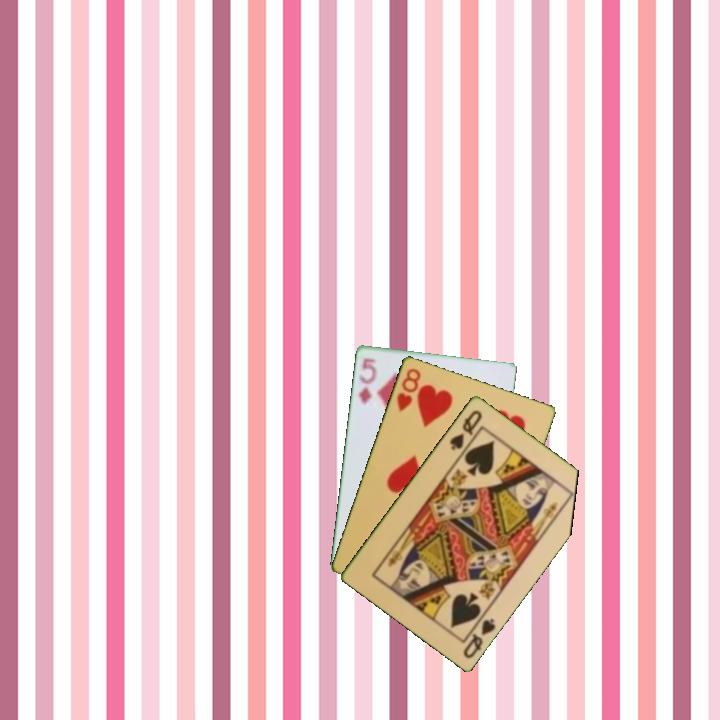5d: (355, 354, 379, 407)
8h: (393, 364, 424, 414)
Qs: (446, 406, 485, 453), (459, 614, 498, 661)
